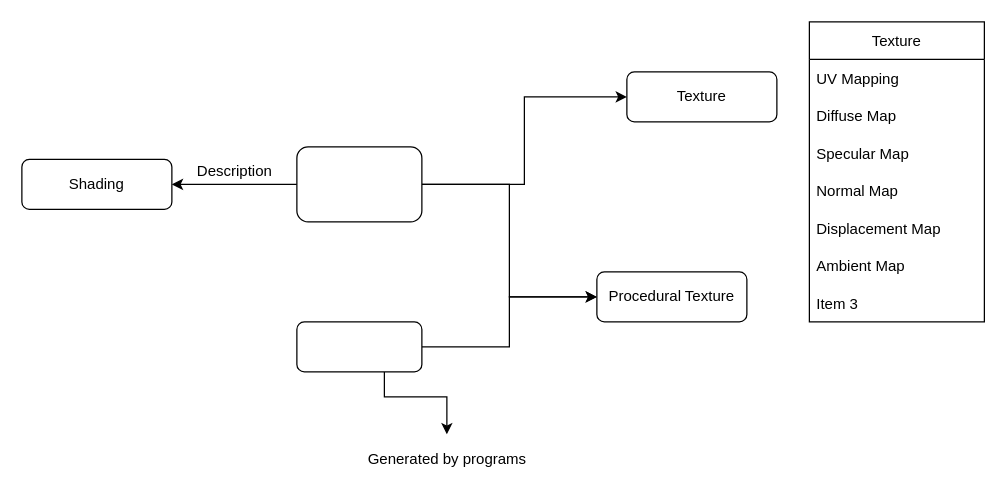
This 1006x494 diagram has some shape labels left out. Each missing label, with the box of its shape:
Material: (296, 146, 422, 222)
Shaders: (296, 321, 422, 372)
